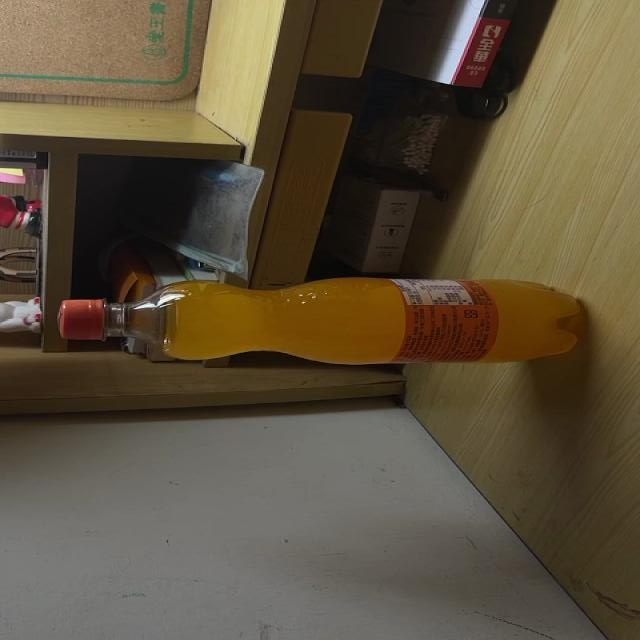Fanta: (56, 278, 582, 364)
